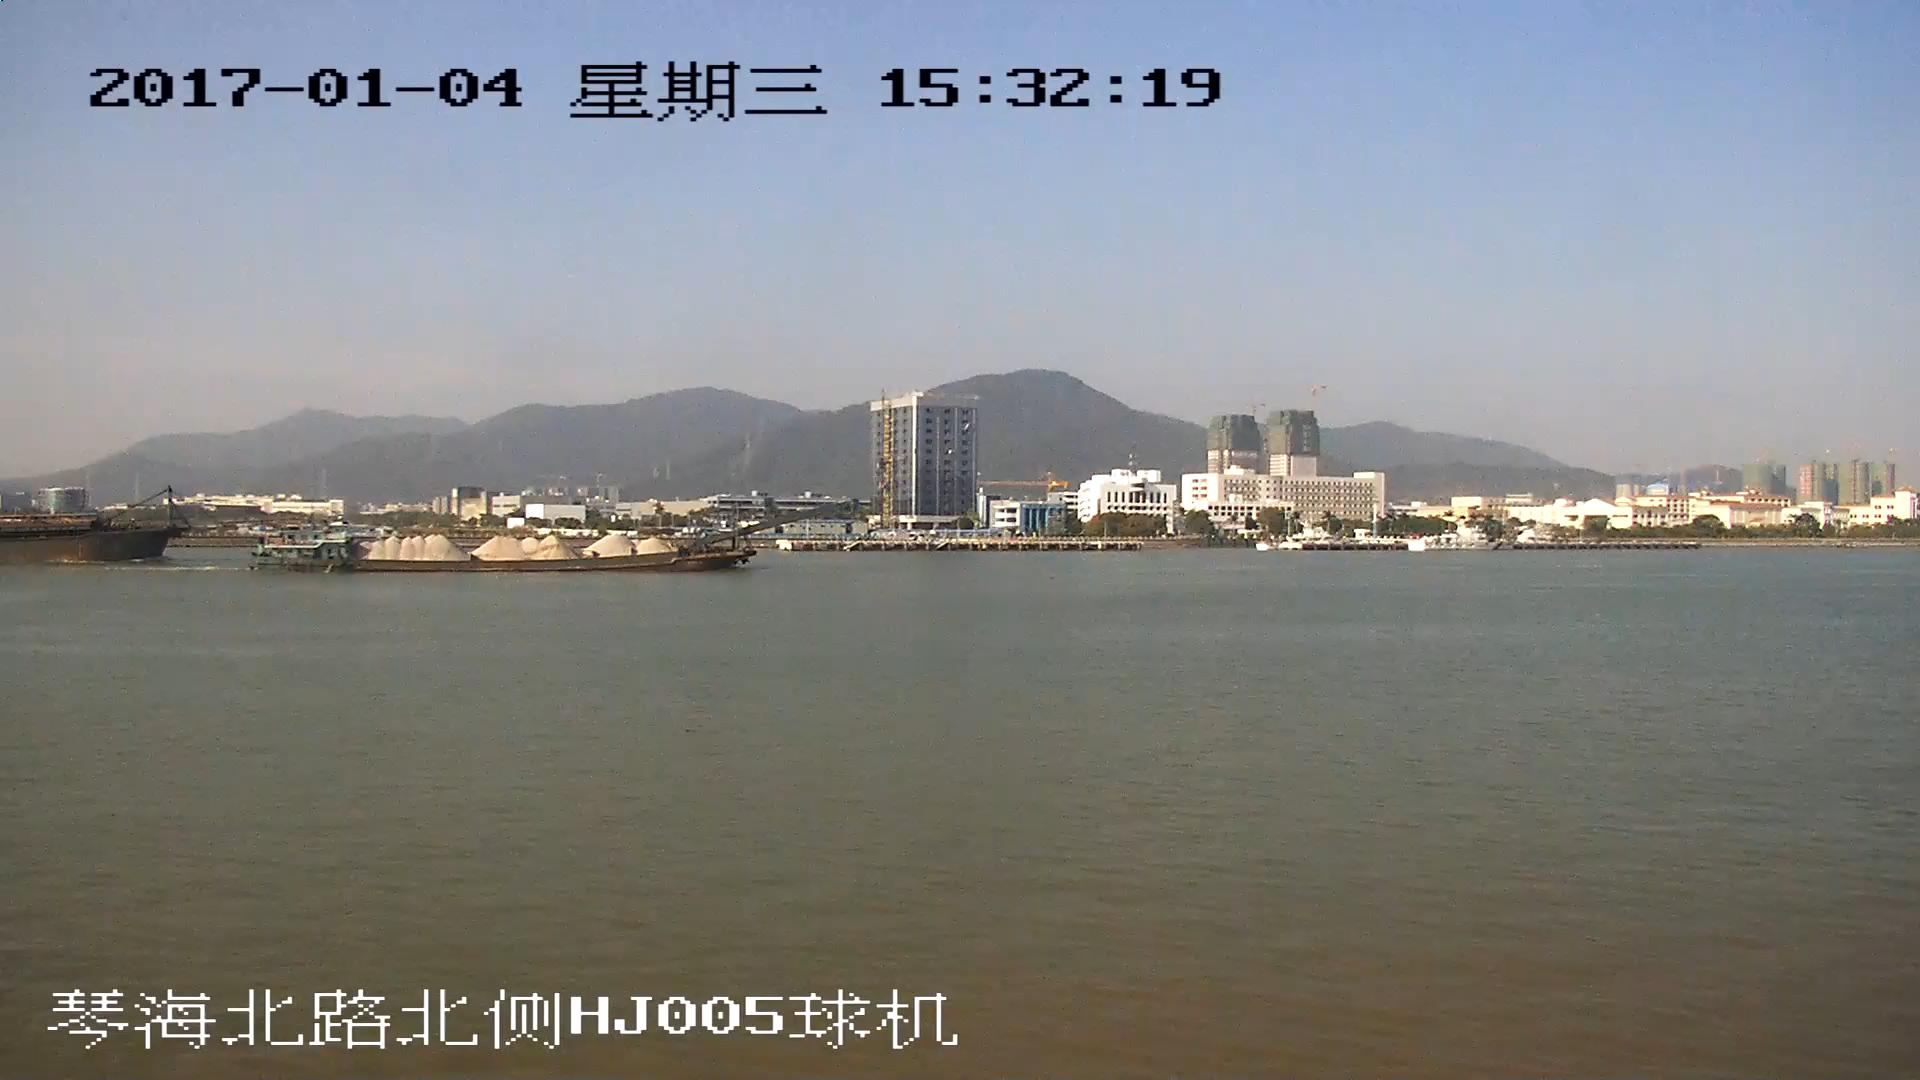bulk cargo carrier: (1, 494, 189, 561)
ore carrier: (246, 503, 846, 575)
